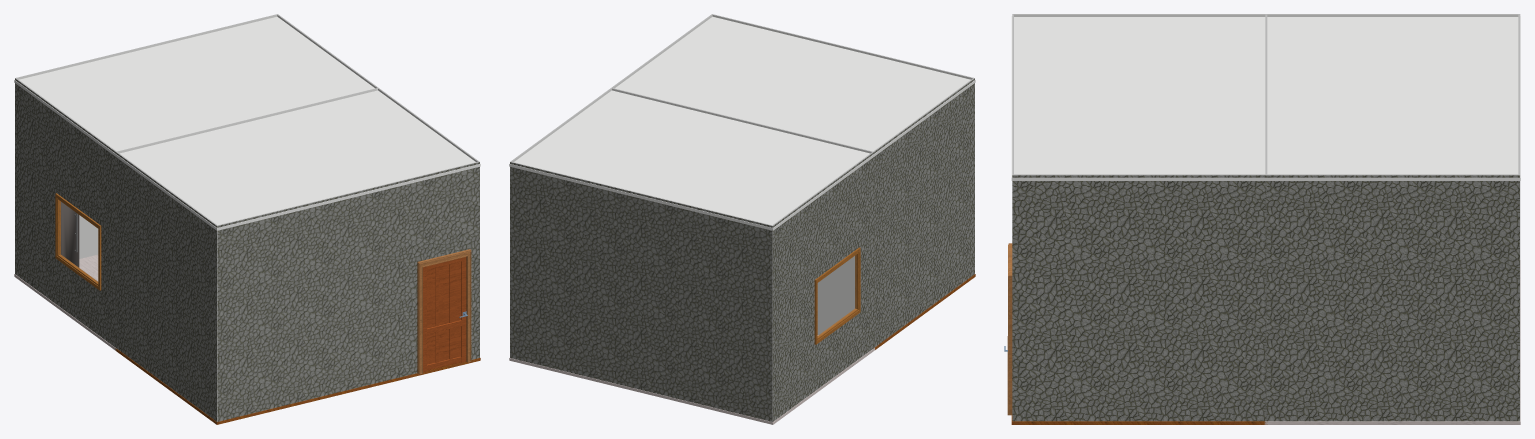
File: ProcTHOR-Train-33.glb
3 renders of one model, left to right at view 1: azimuth 30°, elevation 25°; view 2: azimuth 150°, elevation 25°; view 3: azimuth 270°, elevation 25°, orthographic. The views are drawn at different scales.
Visible parts, largest first — view 1: WallInside#wall|exterior|0.00|6.90|5.18|6.90, Ceiling#room|3|c, Ceiling#room|2|c, WallInside#wall|exterior|5.18|3.45|5.18|6.90, WallInside#wall|exterior|5.18|0.00|5.18|3.45, Doorway_10, WallInside#wall|2|0.00|0.00|5.18|0.00, Floor#room|3|f, Window_Fixed_60x48, Fridge_5, Floor#room|2|f, WallInside#wall|3|0.00|3.45|5.18|3.45; view 2: WallInside#wall|exterior|0.00|0.00|5.18|0.00, Ceiling#room|2|c, Ceiling#room|3|c, WallInside#wall|exterior|5.18|3.45|5.18|6.90, WallInside#wall|exterior|5.18|0.00|5.18|3.45, WallInside#wall|2|0.00|3.45|5.18|3.45, Floor#room|2|f, Window_Fixed_60x48, WallInside#wall|3|0.00|6.90|5.18|6.90; view 3: WallInside#wall|exterior|0.00|3.45|0.00|6.90, WallInside#wall|exterior|0.00|0.00|0.00|3.45, Ceiling#room|2|c, Ceiling#room|3|c, Floor#room|2|f, Floor#room|3|f, Doorway_10, WallInside#wall|2|5.18|0.00|5.18|3.45, WallInside#wall|3|5.18|3.45|5.18|6.90, WallInside#wall|exterior|0.00|0.00|5.18|0.00.
Boxes of the visible parts, x1,y1,x2,y2 form: WallInside#wall|exterior|0.00|6.90|5.18|6.90: (217,162,479,421); Ceiling#room|3|c: (115,90,480,230); Ceiling#room|2|c: (14,16,374,156); WallInside#wall|exterior|5.18|3.45|5.18|6.90: (115,152,217,421); WallInside#wall|exterior|5.18|0.00|5.18|3.45: (15,78,115,347); Doorway_10: (417,249,471,374); WallInside#wall|2|0.00|0.00|5.18|0.00: (16,14,277,258); Floor#room|3|f: (115,348,480,424); Window_Fixed_60x48: (55,193,101,290); Fridge_5: (61,202,79,267); Floor#room|2|f: (14,254,116,350); WallInside#wall|3|0.00|3.45|5.18|3.45: (117,88,377,153); WallInside#wall|exterior|0.00|0.00|5.18|0.00: (510,162,772,421); Ceiling#room|2|c: (509,90,874,230); Ceiling#room|3|c: (615,16,975,155); WallInside#wall|exterior|5.18|3.45|5.18|6.90: (874,78,974,347); WallInside#wall|exterior|5.18|0.00|5.18|3.45: (772,152,874,421); WallInside#wall|2|0.00|3.45|5.18|3.45: (611,88,872,334); Floor#room|2|f: (509,335,874,424); Window_Fixed_60x48: (814,247,860,344); WallInside#wall|3|0.00|6.90|5.18|6.90: (712,14,973,79); WallInside#wall|exterior|0.00|3.45|0.00|6.90: (1012,175,1266,421); WallInside#wall|exterior|0.00|0.00|0.00|3.45: (1265,175,1519,421); Ceiling#room|2|c: (1264,16,1520,180); Ceiling#room|3|c: (1011,16,1267,180); Floor#room|2|f: (1264,260,1520,424); Floor#room|3|f: (1011,415,1267,424); Doorway_10: (1004,243,1012,415); WallInside#wall|2|5.18|0.00|5.18|3.45: (1267,14,1519,16); WallInside#wall|3|5.18|3.45|5.18|6.90: (1014,14,1266,16); WallInside#wall|exterior|0.00|0.00|5.18|0.00: (1519,14,1520,420).
Size of what is drawn, in the model's own units: 5.24 by 3.75 by 7.04.
135 materials, 63 textured.
